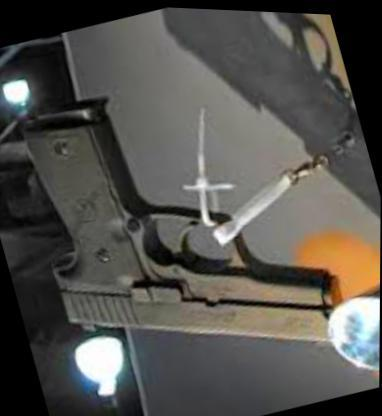pistol: (12, 46, 369, 415)
